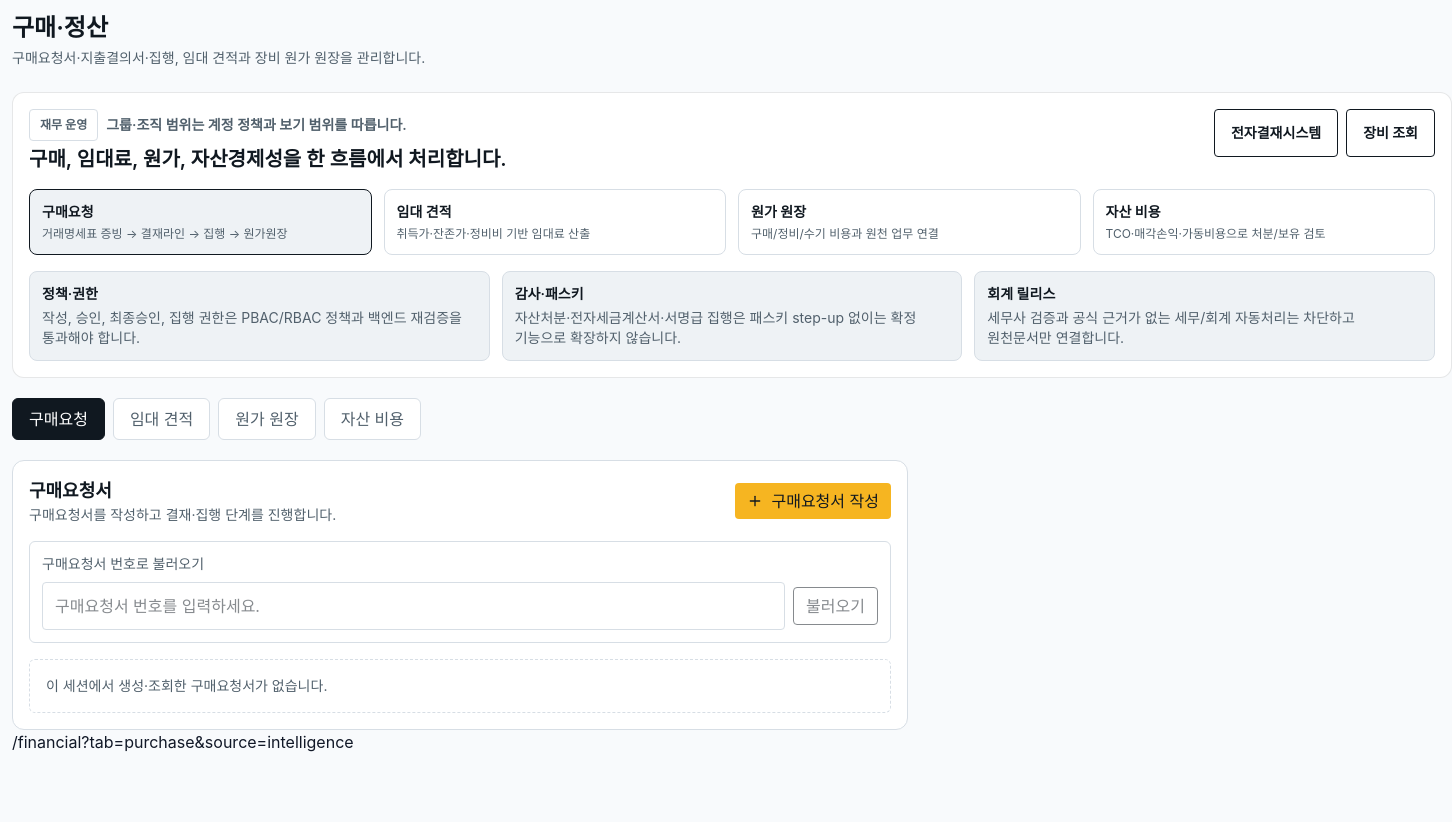
Test: FinancialPage › keeps the URL tab hint in sync when users switch workbenches
The image size is (1452, 822).
Click the tab "자산 비용": (372, 419) [324,398,421,440]
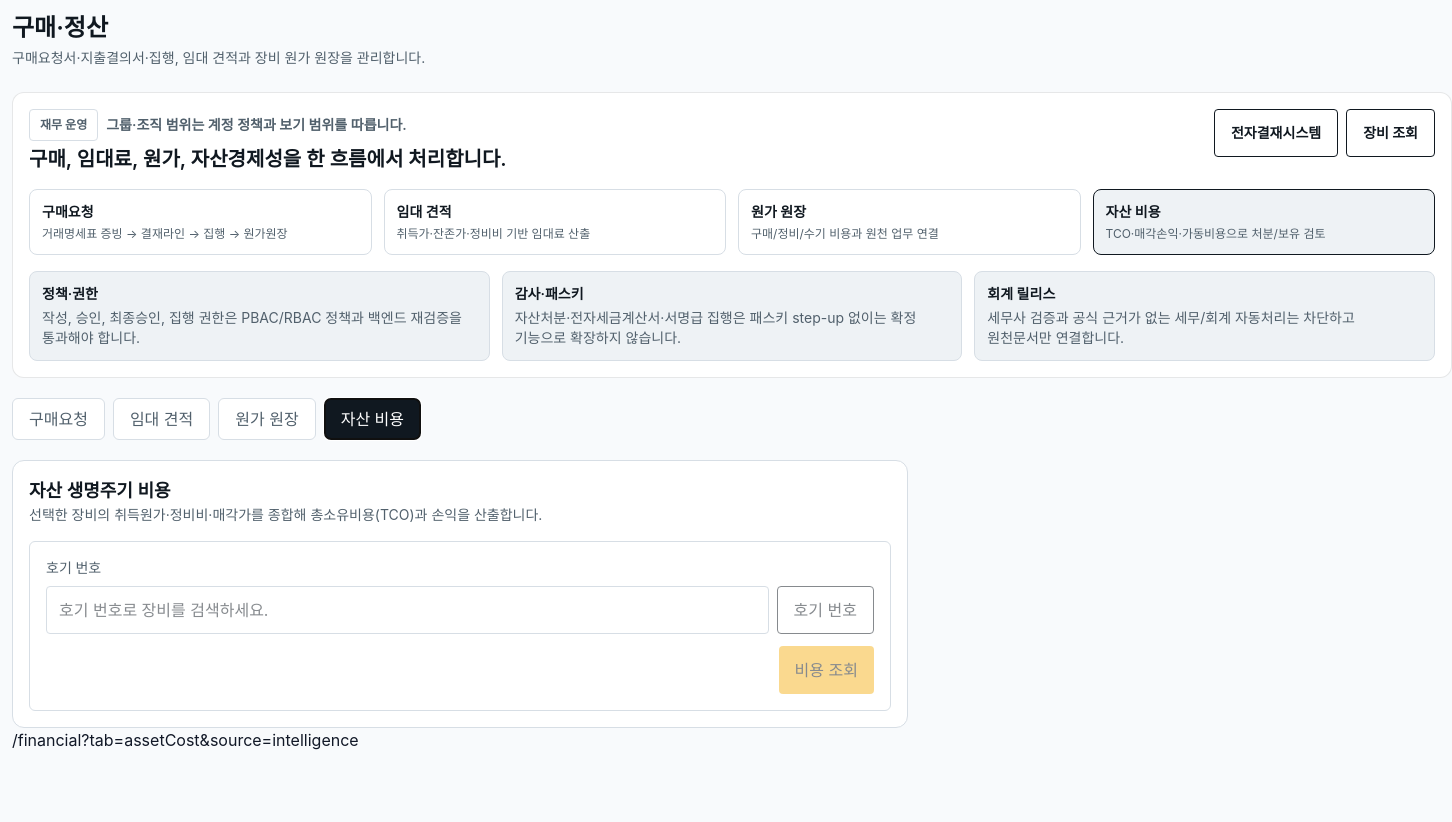
Expected: the text named "current location" reads "/financial?tab=assetCost&source=intelligence", [12,730,359,750]
